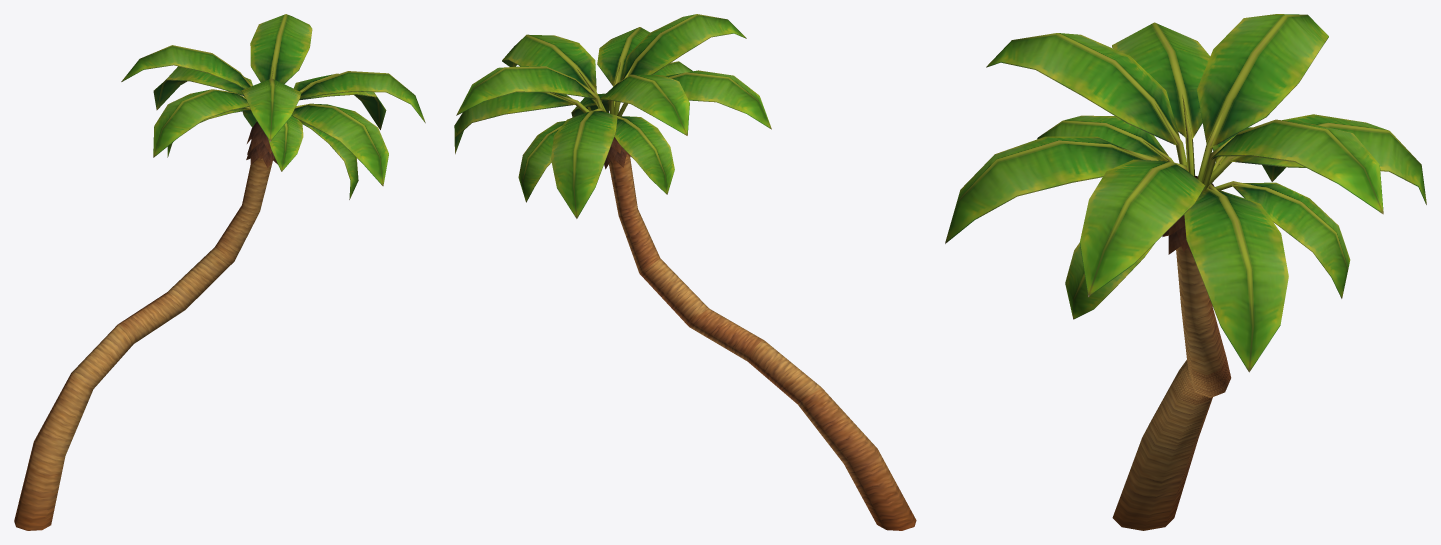
Rendered from PalmTree_02.fbx.
3 views of the same model, side by side, from view 1: azimuth 30°, elevation 25°; view 2: azimuth 150°, elevation 25°; view 3: azimuth 270°, elevation 25° (orthographic). The views are drawn at different scales.
Visible parts, largest first — view 1: PalmTree_02; view 2: PalmTree_02; view 3: PalmTree_02.
Part boxes in pixels (bbox=[...]): PalmTree_02: bbox=[14, 14, 425, 530]; PalmTree_02: bbox=[454, 14, 916, 530]; PalmTree_02: bbox=[945, 14, 1426, 530].
Size of the model in its own units: 152 by 148 by 98.73.
